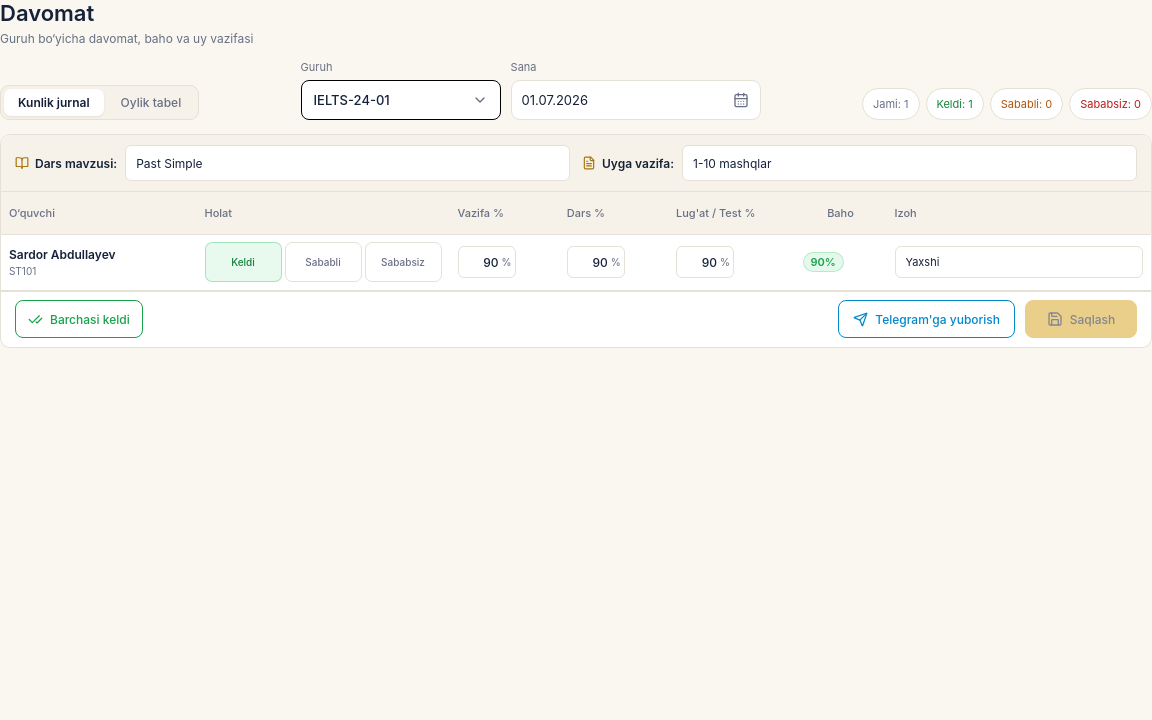
Senior Pro Client Requirements Verification › Requirement 1: Davomatda umumiy oylik tabel va tezkor davomat olish › when changes are dirty and user switches to monthly tab, confirming prompt discards dirty changes and opens monthly tab
Expected: the text "Sardor Abdullayev" is shown, [9, 247, 116, 262]
Note: Change student status to Sababsiz to create dirty changes
Click the button with aria-label "Sardor Abdullayev: Sababsiz": (403, 262) [364, 242, 442, 282]
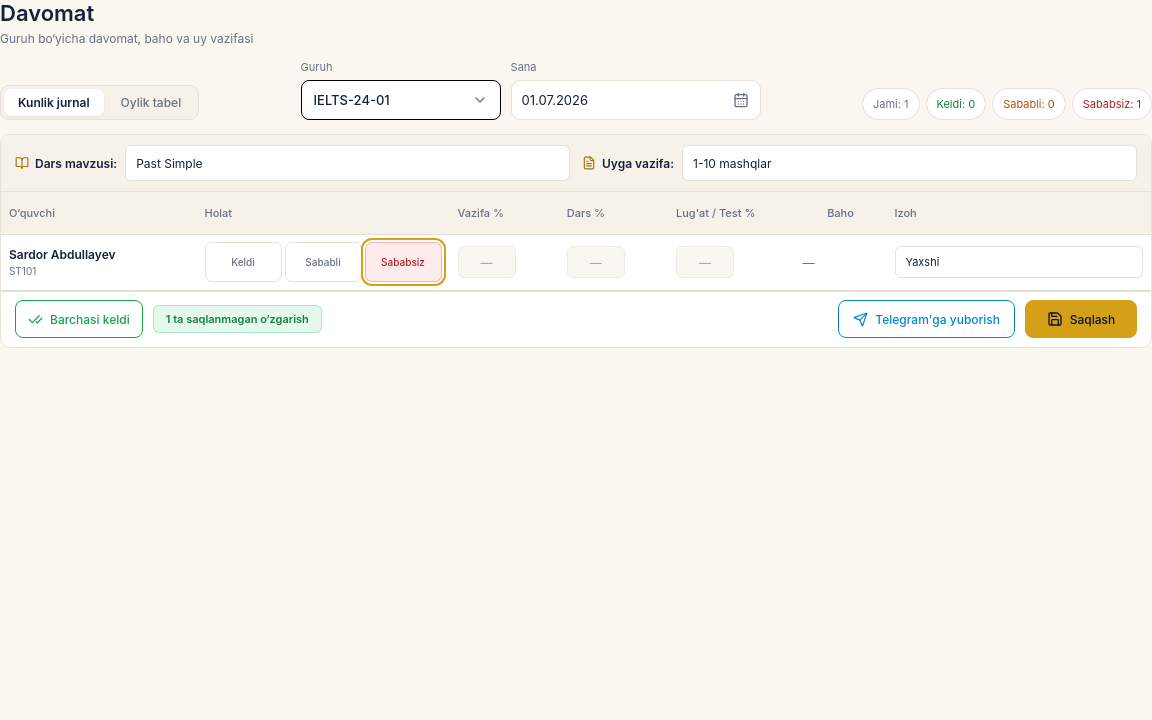
Now the text "1 ta saqlanmagan o‘zgarish" is shown, box [153, 305, 322, 333]
Note: User clicks "Oylik tabel" tab
Click the tab "Oylik tabel": (151, 102) [107, 89, 195, 116]
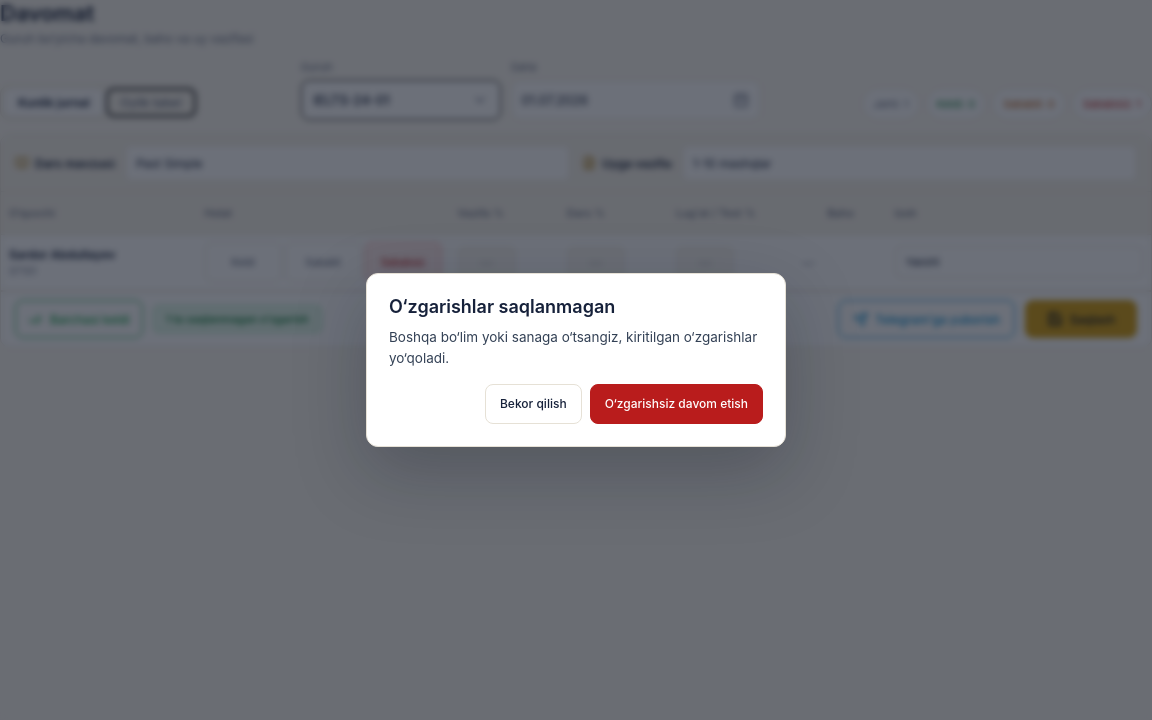
Now the heading "O‘zgarishlar saqlanmagan" is shown, box [389, 296, 615, 317]
Note: User clicks "O‘zgarishsiz davom etish"
Click the button "O‘zgarishsiz davom etish": (676, 404) [590, 384, 763, 424]
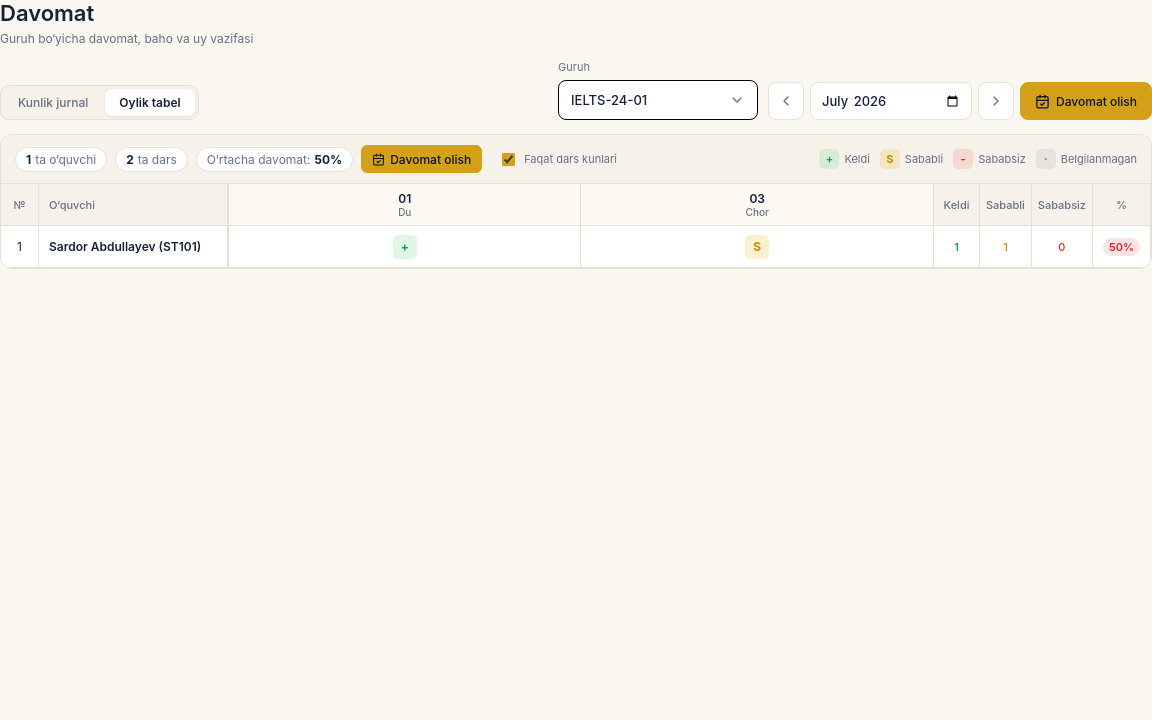
Now the heading "O‘zgarishlar saqlanmagan" is gone
Now the text "O‘rtacha davomat:" is shown, box [207, 152, 310, 166]
